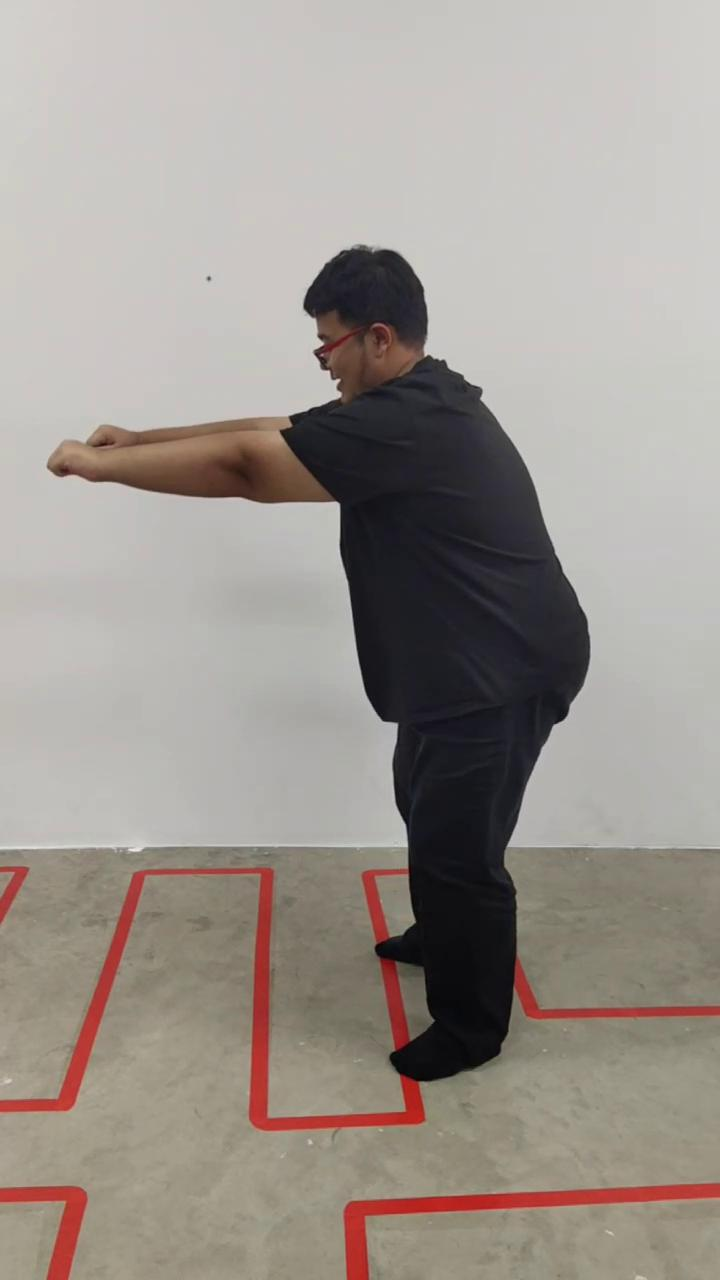squat up: (50, 245, 589, 1079)
